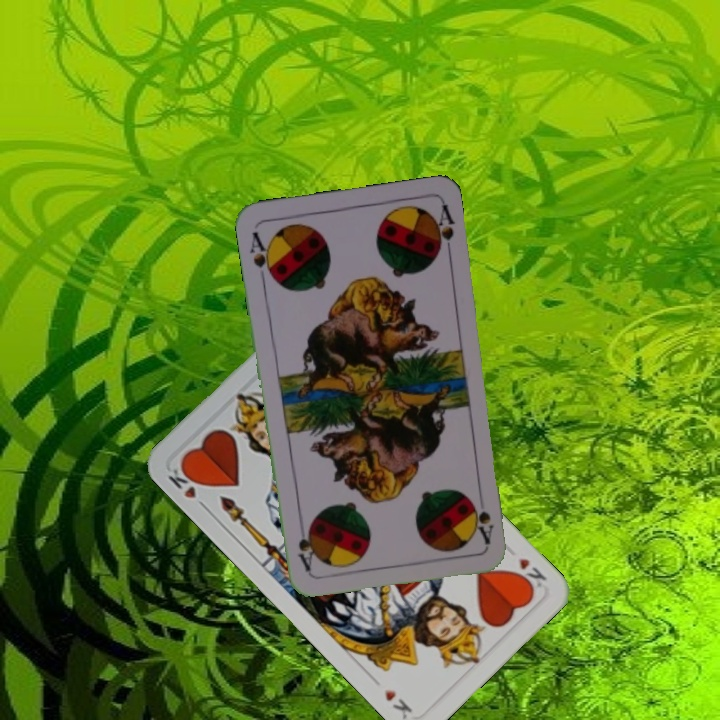HK: (163, 458, 210, 513), (510, 553, 549, 594)
SA: (245, 227, 277, 285), (468, 487, 496, 547)
